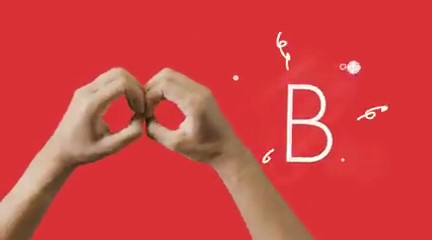B: (53, 56, 239, 175)
